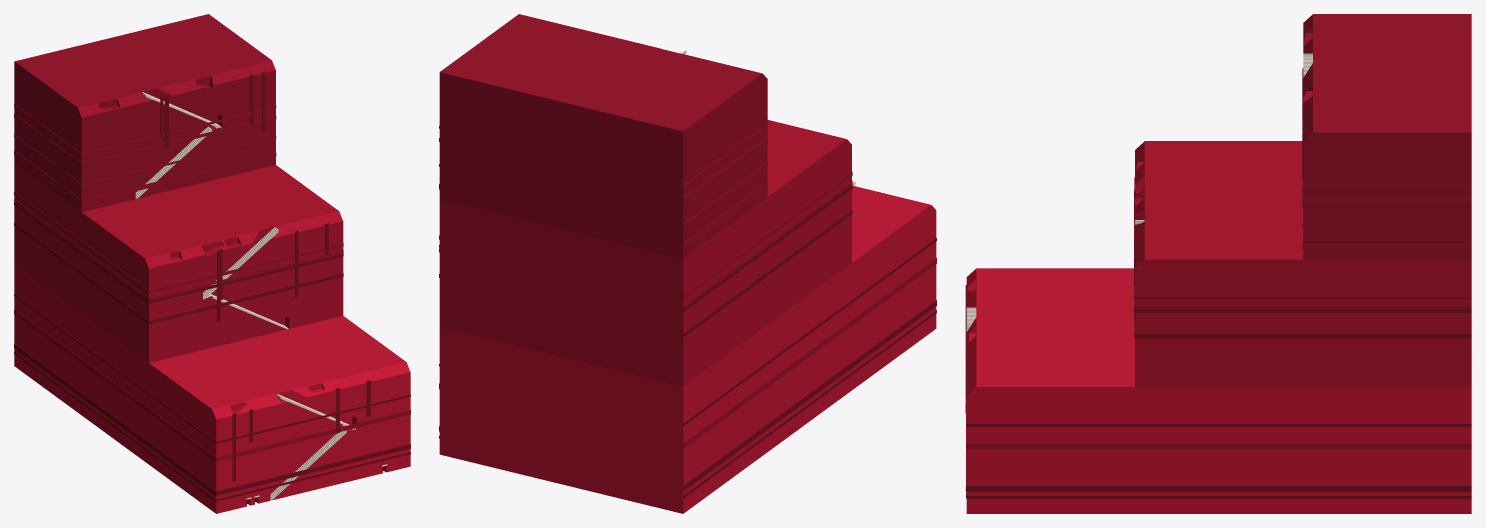
The model's file is mega_stair_step.glb.
3 views of the same model, side by side, from view 1: azimuth 30°, elevation 25°; view 2: azimuth 150°, elevation 25°; view 3: azimuth 270°, elevation 25° (orthographic). The views are drawn at different scales.
Visible parts, largest first — view 1: mega_stair_step; view 2: mega_stair_step; view 3: mega_stair_step.
Boxes of the visible parts, x1,y1,x2,y2 form: mega_stair_step: (14, 14, 410, 513); mega_stair_step: (439, 14, 936, 513); mega_stair_step: (965, 14, 1471, 513).
Bounding box in the file's own units: 60.27 × 90 × 108.
